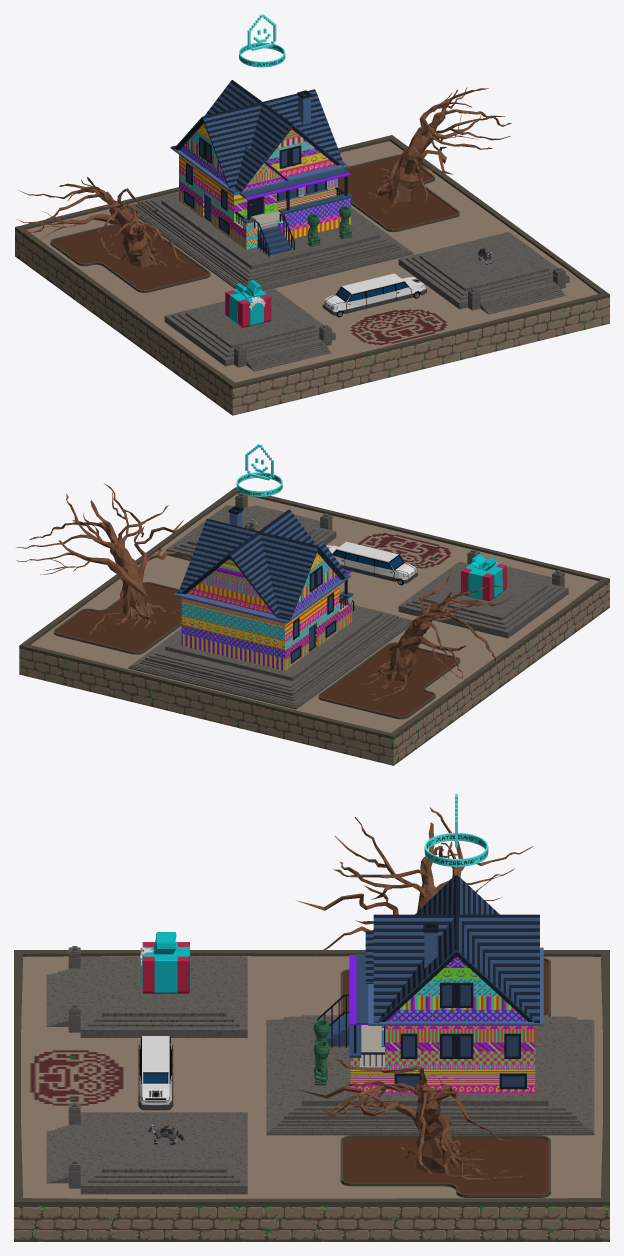
3 views of the same model, one above another, from view 1: azimuth 30°, elevation 25°; view 2: azimuth 150°, elevation 25°; view 3: azimuth 270°, elevation 25° (orthographic). The views are drawn at different scales.
Parts seen in each view (by area): view 1: Cube.011, Cube.676, VEHICLES_LIMOUSINE, OBJRANDOM_GIANT_PRESENT, TYPE_PREMIUM; view 2: Cube.011, Cube.676, VEHICLES_LIMOUSINE, OBJRANDOM_GIANT_PRESENT, TYPE_PREMIUM; view 3: Cube.011, Cube.676, OBJRANDOM_GIANT_PRESENT, VEHICLES_LIMOUSINE, TYPE_PREMIUM.
Boxes of the visible parts, <box> form: Cube.011: <box>15,87,609,415</box>; Cube.676: <box>170,80,353,256</box>; VEHICLES_LIMOUSINE: <box>322,273,426,317</box>; OBJRANDOM_GIANT_PRESENT: <box>225,280,271,327</box>; TYPE_PREMIUM: <box>239,14,285,67</box>; Cube.011: <box>16,483,609,765</box>; Cube.676: <box>174,506,354,670</box>; VEHICLES_LIMOUSINE: <box>326,541,417,585</box>; OBJRANDOM_GIANT_PRESENT: <box>461,554,506,601</box>; TYPE_PREMIUM: <box>236,444,282,496</box>; Cube.011: <box>14,807,609,1241</box>; Cube.676: <box>317,875,543,1092</box>; OBJRANDOM_GIANT_PRESENT: <box>140,932,190,993</box>; VEHICLES_LIMOUSINE: <box>138,1036,173,1110</box>; TYPE_PREMIUM: <box>424,794,488,866</box>.
Bounding box in the file's own units: 5099 × 2489 × 4000.
Materials: 37 (11 with a texture image).
